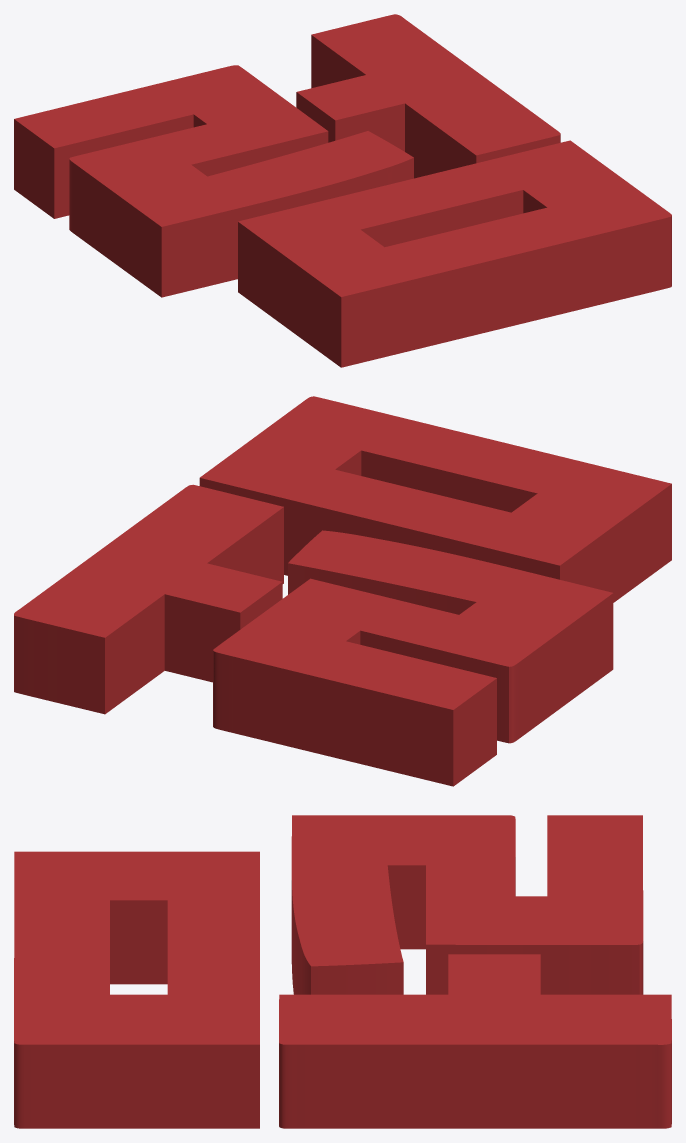
Rendered from rum.fbx.
3 views of the same model, one above another, from view 1: azimuth 30°, elevation 25°; view 2: azimuth 150°, elevation 25°; view 3: azimuth 270°, elevation 25° (orthographic). The views are drawn at different scales.
Parts seen in each view (by area): view 1: Curve, Curve.001, Curve.002; view 2: Curve.001, Curve, Curve.002; view 3: Curve, Curve.002, Curve.001.
Boxes of the visible parts, x1,y1,x2,y2 form: Curve: (238, 140, 671, 367); Curve.001: (14, 65, 413, 297); Curve.002: (296, 14, 560, 178); Curve.001: (213, 530, 613, 786); Curve: (199, 396, 671, 602); Curve.002: (14, 484, 283, 714); Curve: (14, 851, 259, 1128); Curve.002: (279, 954, 671, 1128); Curve.001: (291, 815, 643, 994).
Size of the model in its own units: 998 by 170 by 1208.
